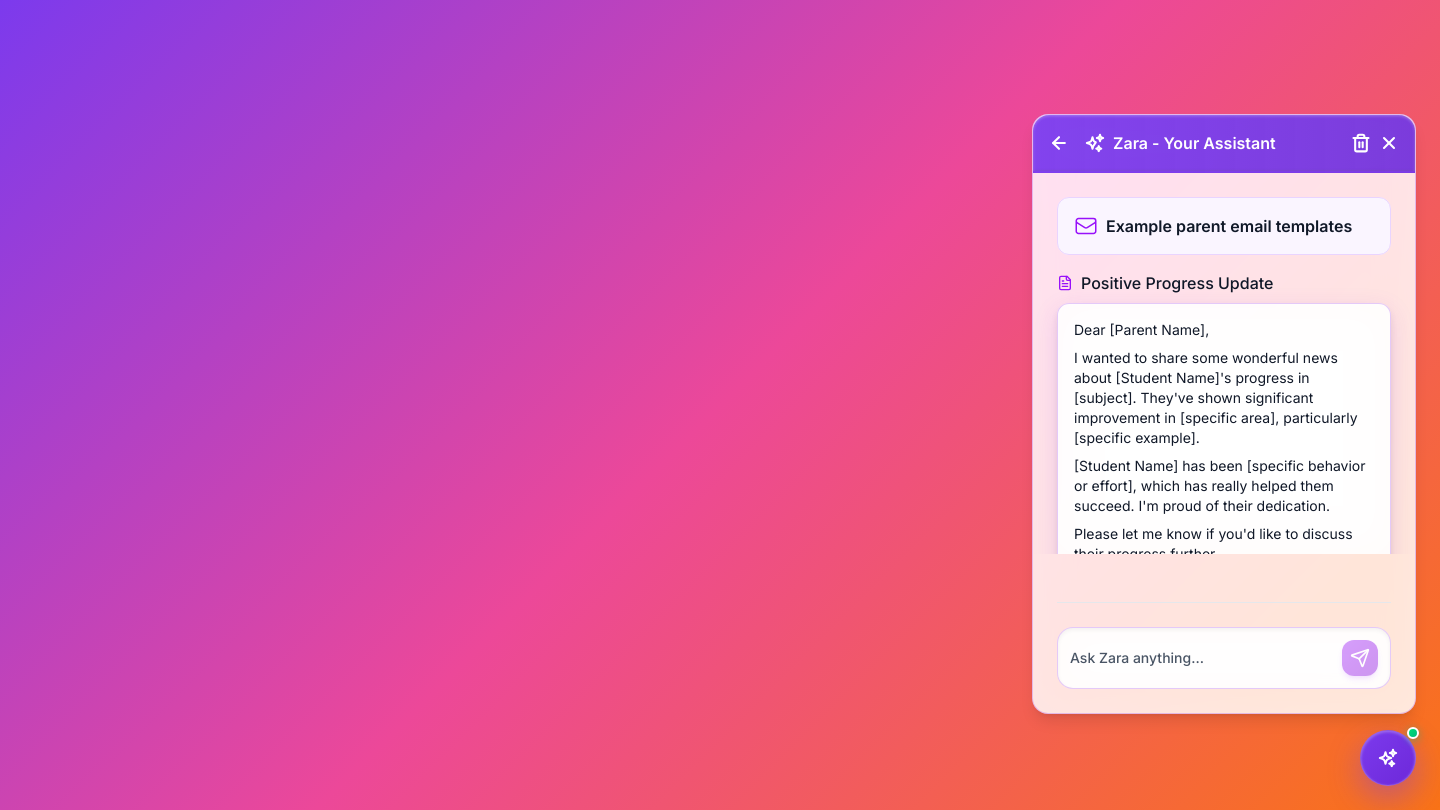
Test: ZaraAssistant › keeps the transcript when returning from a tip detail
Earlier steps of the test are not shown.
Step 1. Click the button named "Back to menu" → coordinates (1059, 143), box [1049,133,1069,153]
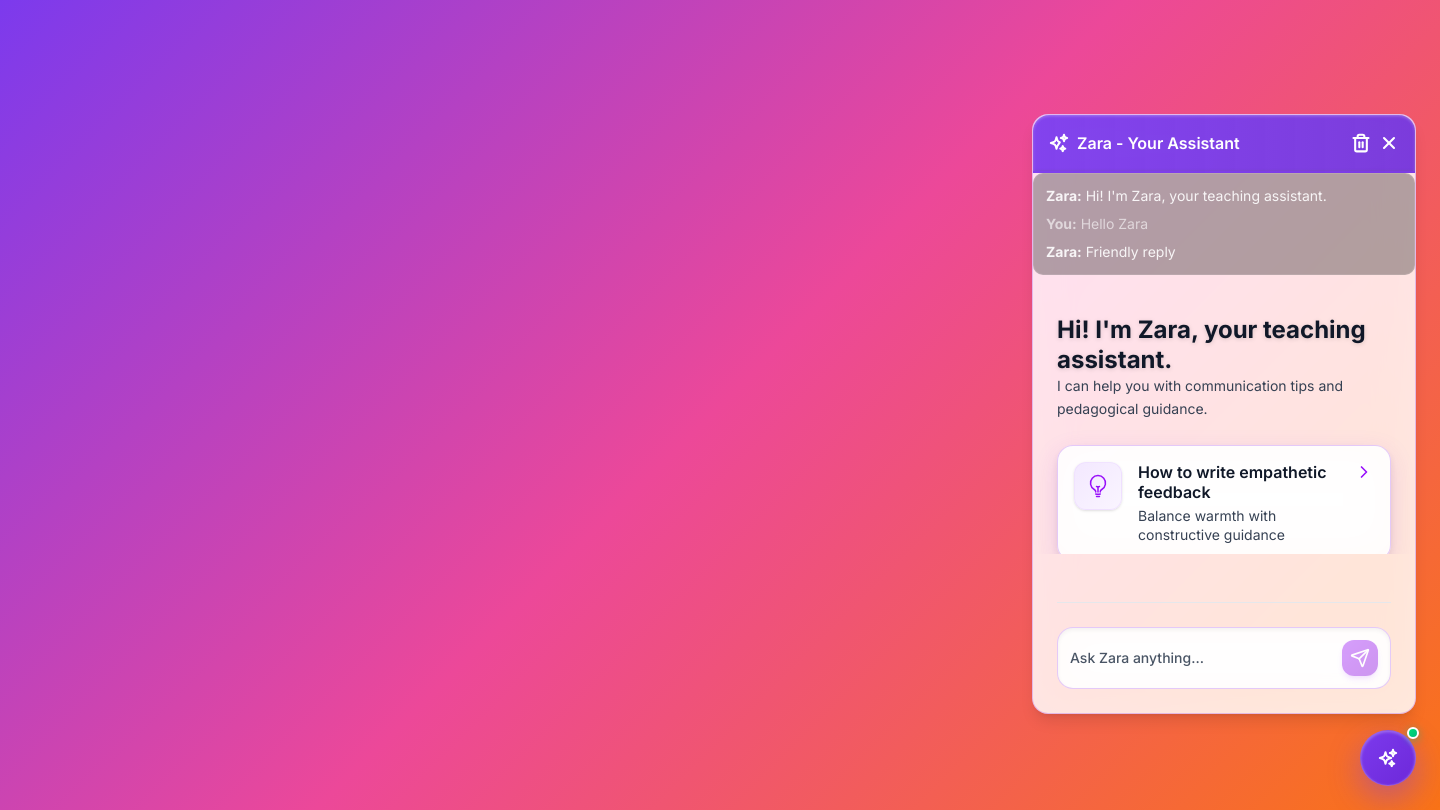
Check: the text "Hello Zara" is shown, box [1081,215,1148,232]
